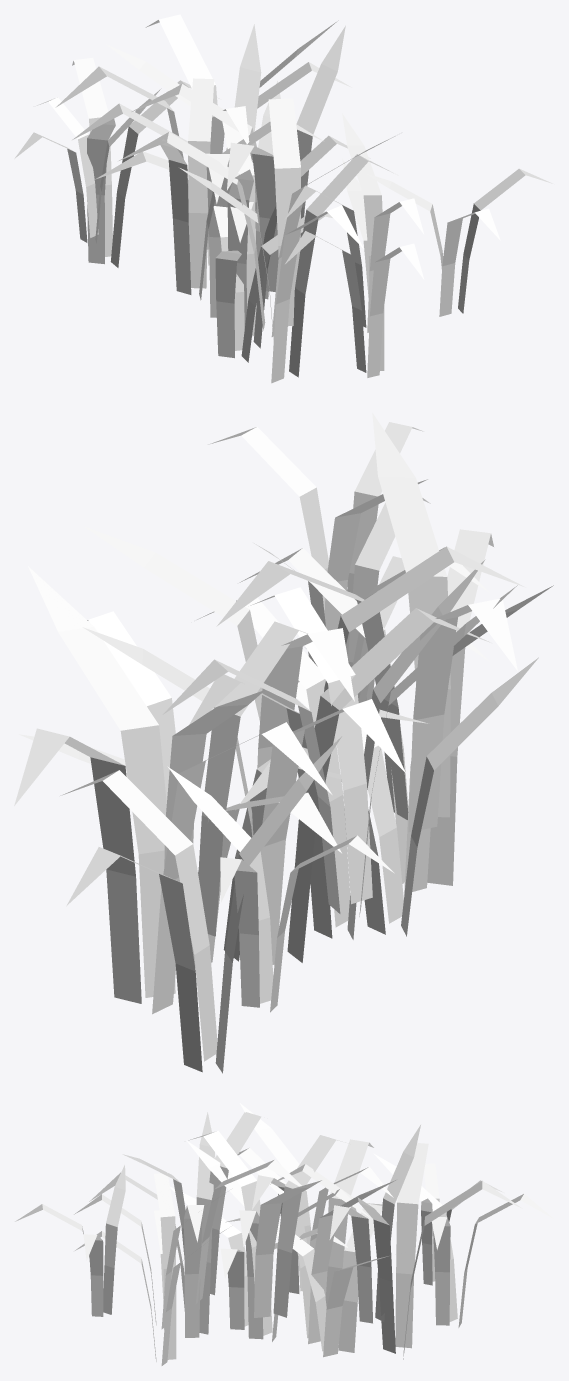
The model's file is SM_Grass.fbx.
3 views of the same model, one above another, from view 1: azimuth 30°, elevation 25°; view 2: azimuth 150°, elevation 25°; view 3: azimuth 270°, elevation 25° (orthographic). The views are drawn at different scales.
Visible parts, largest first — view 1: SM_Grass_02, SM_Grass_01; view 2: SM_Grass_02, SM_Grass_01; view 3: SM_Grass_02, SM_Grass_01.
Boxes of the visible parts, box(x1,y1,x2,y2) form: SM_Grass_02: box(55, 14, 552, 336); SM_Grass_01: box(14, 44, 424, 383); SM_Grass_02: box(14, 413, 525, 1073); SM_Grass_01: box(87, 529, 553, 1012); SM_Grass_02: box(15, 1112, 553, 1359); SM_Grass_01: box(75, 1103, 503, 1365).
Size of the model in its own units: 73.66 by 54.79 by 128.
